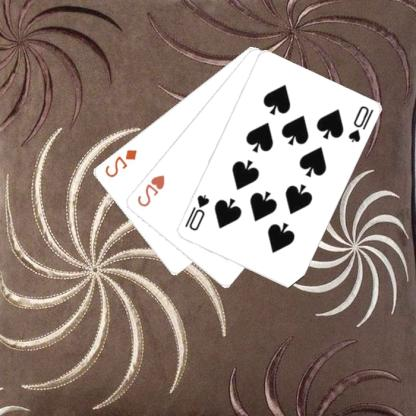10S: (347, 103, 376, 144), (183, 192, 212, 232)
2D: (103, 146, 140, 179)
2H: (136, 172, 167, 208)
